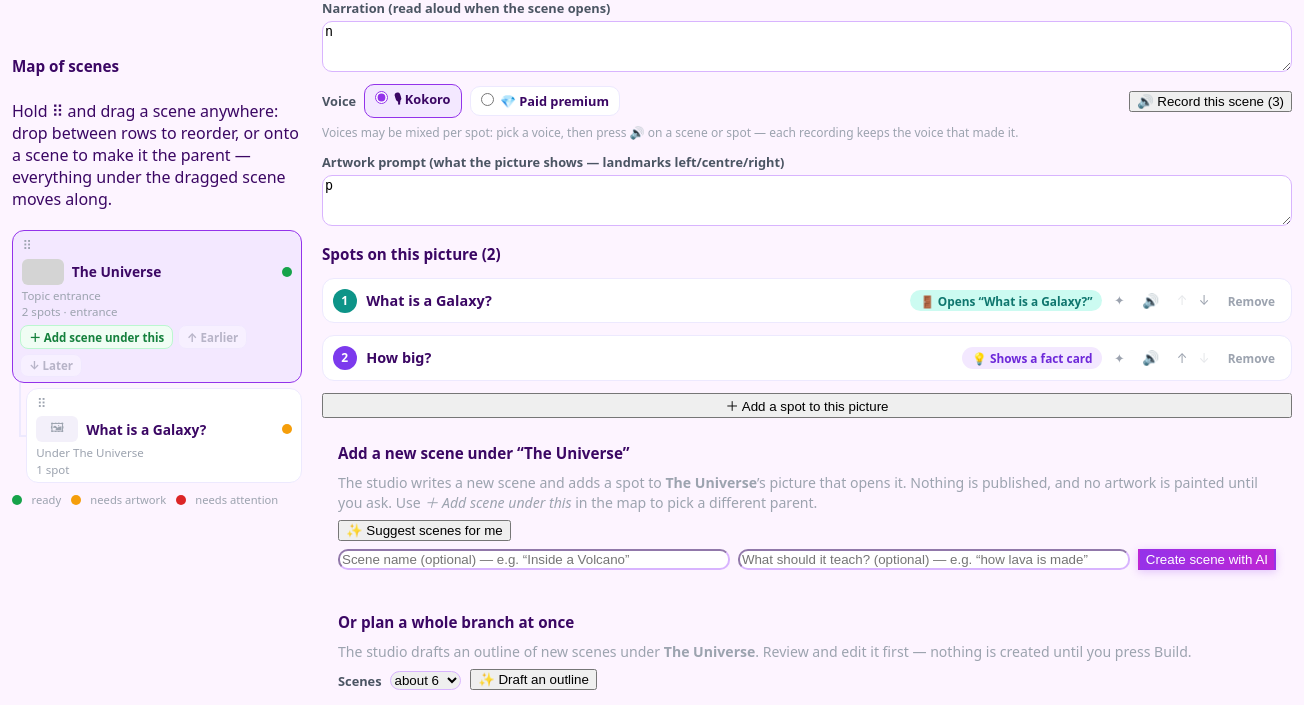
Test case: WikidoStudio — plain-language editor › Topic Builder › builds in order under the right parents; a failure skips only its subtree
(page scrolled)
Click the button "✨ Draft an outline": [533, 680] box [470,669,597,690]
(page scrolled)
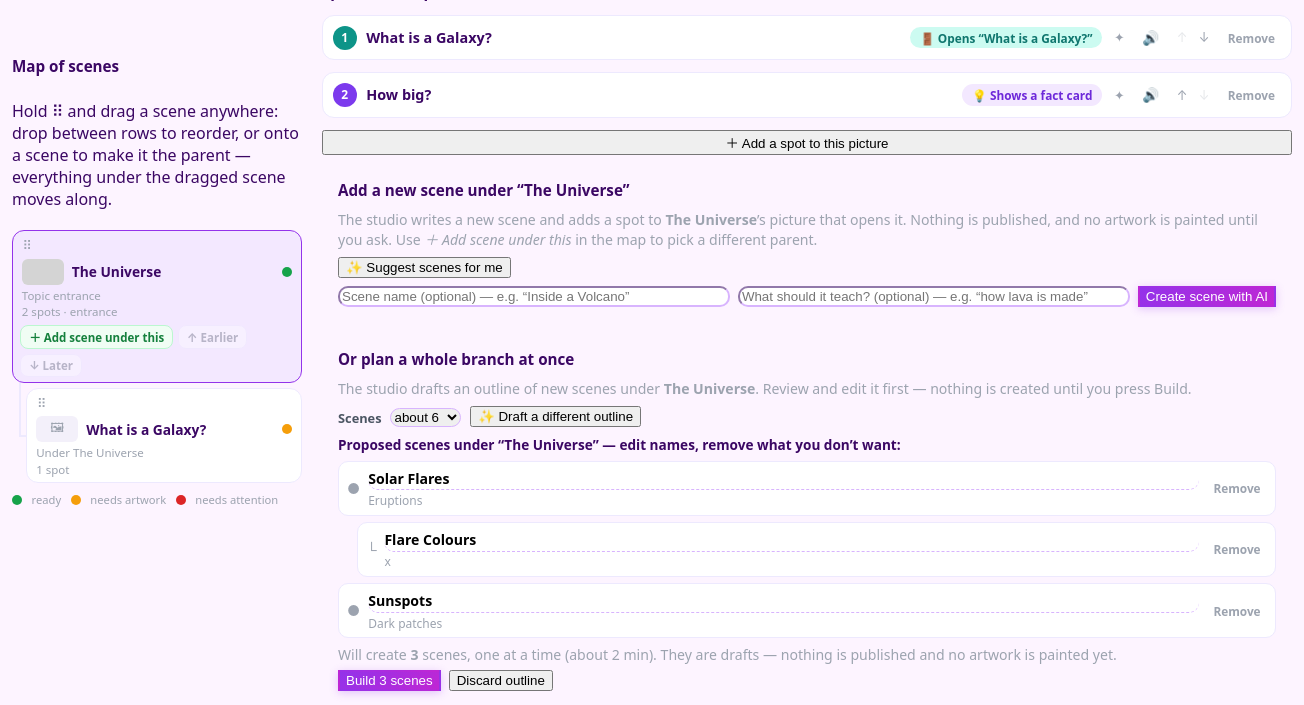
Click the button "Build 3 scenes": [389, 680] box [338,670,441,691]
(page scrolled)
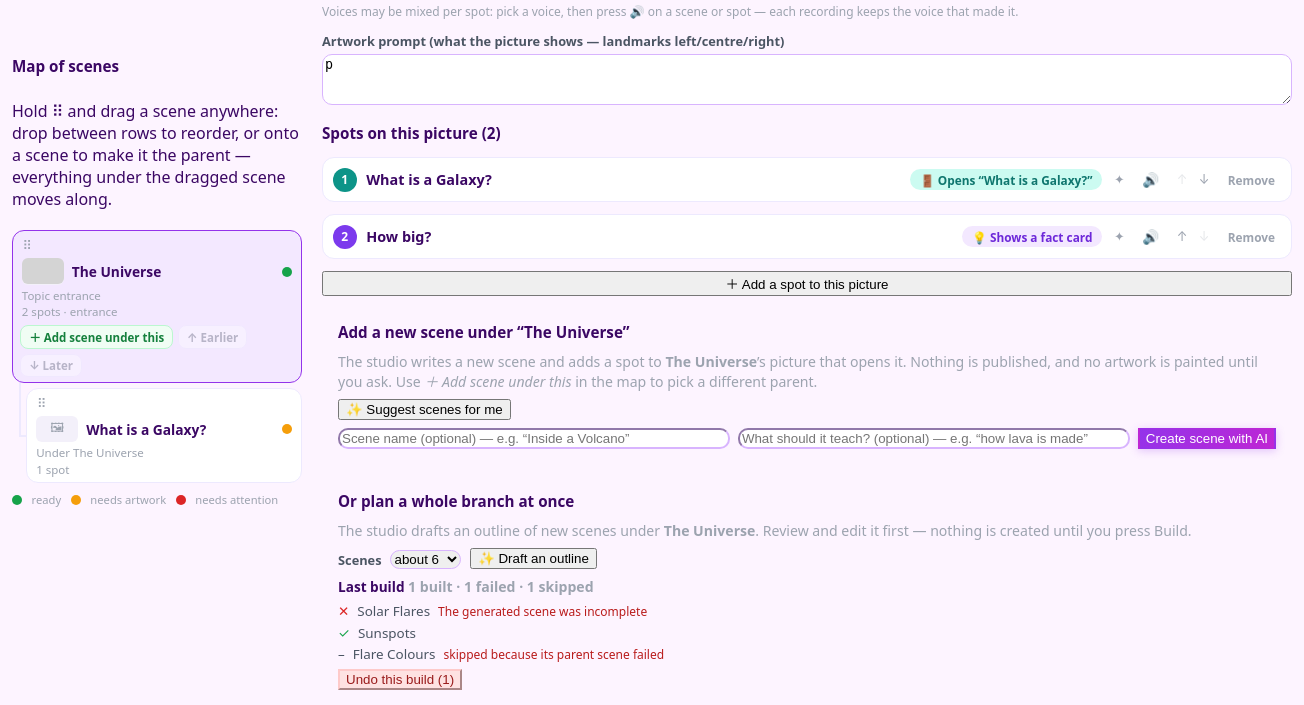
Expected: the element with class "build-log" shows "1 built · 1 failed · 1 skipped", [338,577,664,690]
Expected: the element with class "build-log" shows "The generated scene was incomplete", [438,603,647,620]
Expected: the element with class "build-log" shows "skipped because its parent scene failed", [444,646,664,663]
